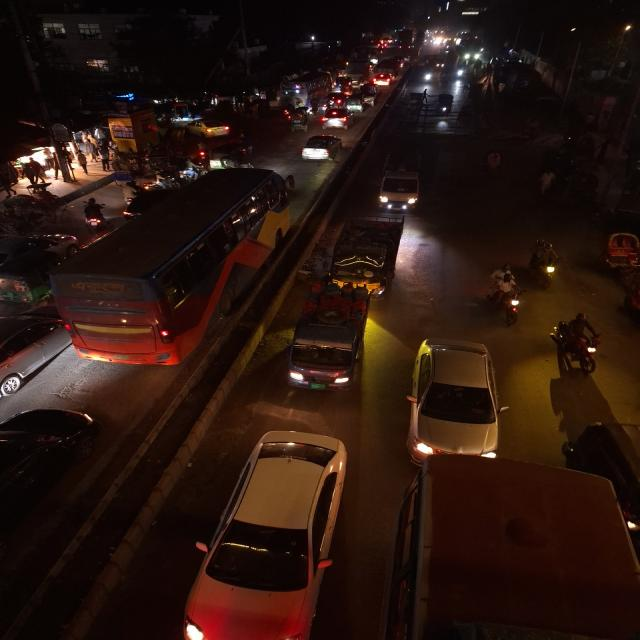bus: (50, 167, 290, 371), (279, 70, 329, 110)
car: (185, 427, 358, 640), (0, 403, 104, 637), (406, 336, 509, 462), (0, 310, 66, 400), (119, 187, 168, 221), (298, 133, 345, 165), (185, 118, 232, 139), (321, 107, 360, 132)
cng: (0, 252, 54, 308), (435, 92, 455, 117), (346, 94, 365, 113), (327, 92, 345, 112)
motorcycle: (546, 308, 605, 378), (486, 262, 526, 327), (530, 236, 562, 290), (79, 198, 108, 232)
pickup_van: (284, 288, 379, 394), (374, 146, 425, 214)
rickshaw: (323, 215, 402, 301), (597, 230, 640, 277), (284, 106, 310, 132)
truck: (323, 215, 404, 301)
